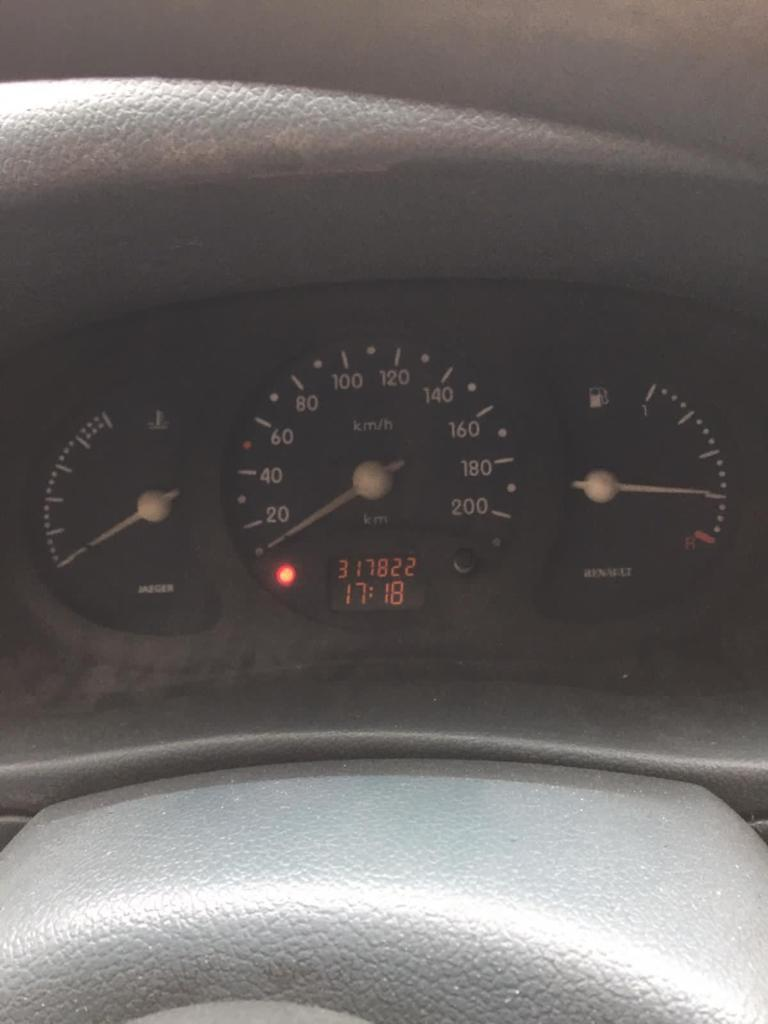1: (343, 582, 351, 606), (354, 558, 362, 578), (382, 581, 389, 603)
2: (404, 555, 416, 577), (390, 556, 402, 577)
3: (336, 558, 348, 579)
7: (353, 580, 367, 605), (364, 557, 375, 576)
8: (390, 580, 404, 605), (376, 557, 388, 578)
X: (367, 584, 374, 599)
odometer: (323, 550, 430, 612)
